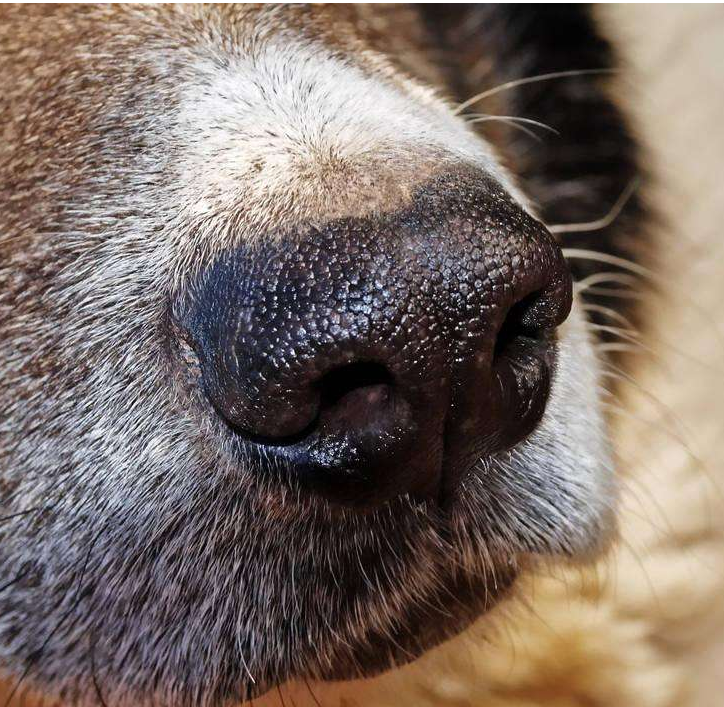nose: (182, 206, 561, 484)
